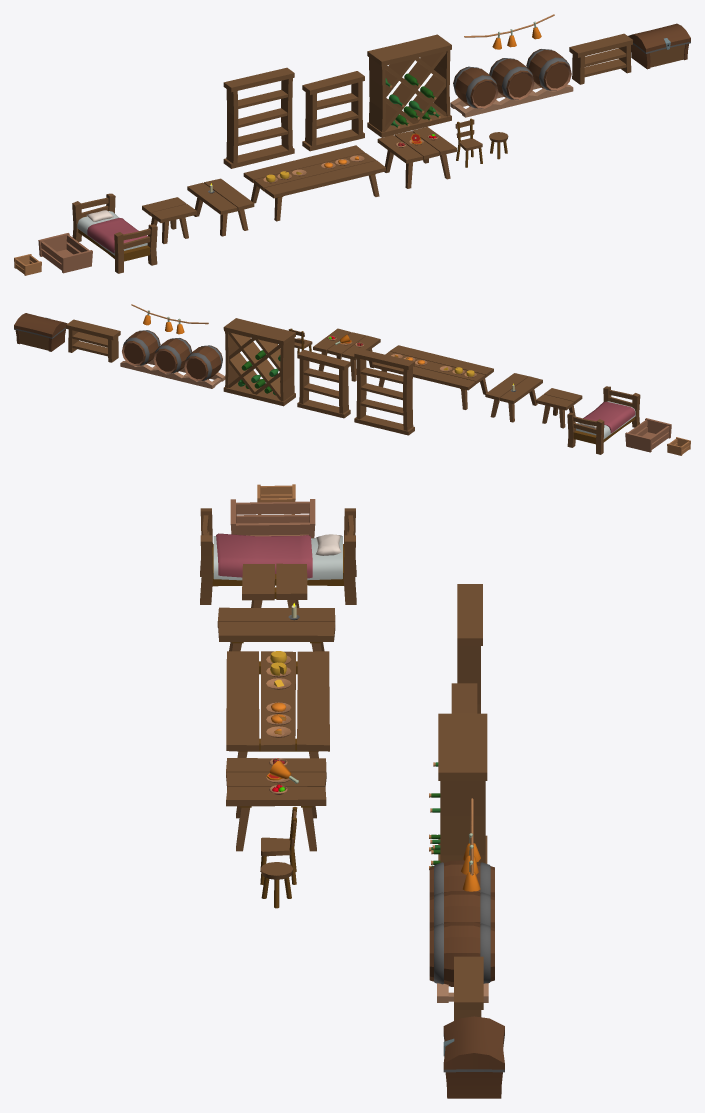
File: XYZ_Daily_Tavern_furniture.fbx
3 views of the same model, one above another, from view 1: azimuth 30°, elevation 25°; view 2: azimuth 150°, elevation 25°; view 3: azimuth 270°, elevation 25° (orthographic). The views are drawn at different scales.
Visible parts, largest first — view 1: Wine_Bottle.001, Cube.005, Beer_Burrels_2.002, Table.004, Cube.001, Cube.002, Cube.011, Table.005, Cube.014, Table.003, Cube.017, Table.006 (+4 smaller); view 2: Wine_Bottle.001, Cube.005, Beer_Burrels_2.002, Cube.001, Table.004, Cube.002, Cube.011, Cube.014, Table.005, Table.003, Cube.017, Table.006 (+4 smaller); view 3: Table.004, Cube.001, Wine_Bottle.001, Beer_Burrels_2.002, Table.005, Cube.014, Table.003, Cube.017, Cube.005, Table.006, Cube.011, Chair.001.
Boxes of the visible parts, x1,y1,x2,y2 form: Wine_Bottle.001: [367, 34, 451, 137]; Cube.005: [223, 67, 294, 168]; Beer_Burrels_2.002: [453, 49, 571, 108]; Table.004: [243, 145, 385, 221]; Cube.001: [72, 193, 157, 273]; Cube.002: [302, 71, 364, 151]; Cube.011: [569, 33, 632, 84]; Table.005: [377, 126, 456, 188]; Cube.014: [628, 23, 690, 69]; Table.003: [187, 178, 254, 236]; Cube.017: [38, 233, 92, 273]; Table.006: [142, 197, 196, 243]; Wine_Bottle.001: [223, 318, 295, 406]; Cube.005: [354, 349, 414, 435]; Beer_Burrels_2.002: [122, 330, 222, 381]; Cube.001: [567, 386, 640, 454]; Table.004: [372, 345, 493, 409]; Cube.002: [297, 349, 350, 418]; Cube.011: [66, 319, 120, 362]; Cube.014: [14, 313, 67, 351]; Table.005: [313, 328, 380, 381]; Table.003: [485, 373, 542, 422]; Cube.017: [625, 418, 671, 452]; Table.006: [535, 388, 582, 428]; Table.004: [226, 651, 329, 758]; Cube.001: [200, 508, 356, 604]; Wine_Bottle.001: [429, 713, 487, 869]; Beer_Burrels_2.002: [429, 860, 494, 986]; Table.005: [226, 758, 326, 851]; Cube.014: [443, 1016, 504, 1098]; Table.003: [217, 607, 335, 651]; Cube.017: [230, 499, 315, 538]; Cube.005: [457, 584, 482, 713]; Table.006: [242, 563, 307, 607]; Cube.011: [454, 956, 483, 1020]; Chair.001: [260, 807, 297, 884].
Size of the model in its own units: 530 by 59.72 by 114.
